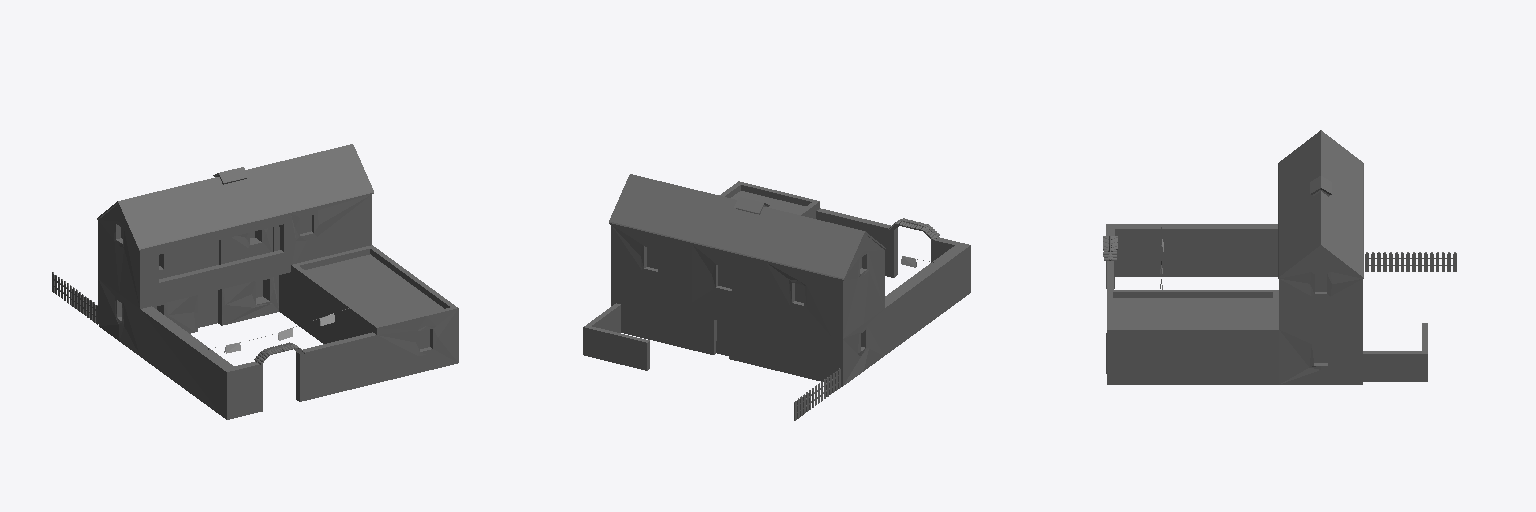
Rendered from Haus.obj.
3 views of the same model, side by side, from view 1: azimuth 30°, elevation 25°; view 2: azimuth 150°, elevation 25°; view 3: azimuth 270°, elevation 25° (orthographic).
Visible parts, largest first — view 1: Haus; view 2: Haus; view 3: Haus.
Part boxes in pixels (x1,y1,x2,y2): Haus: (52,144,458,419); Haus: (583,174,970,420); Haus: (1103,130,1456,384).
Bounding box in the file's own units: 21.37 × 12.54 × 27.86.